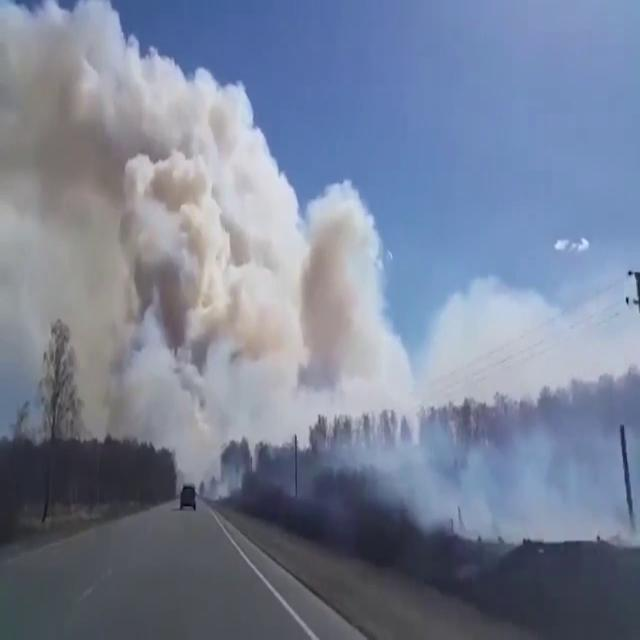Smoke: (11, 48, 388, 460), (305, 352, 640, 566)
